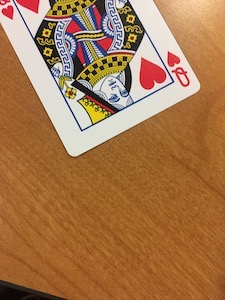QueenOfHearts: (1, 1, 204, 164)
